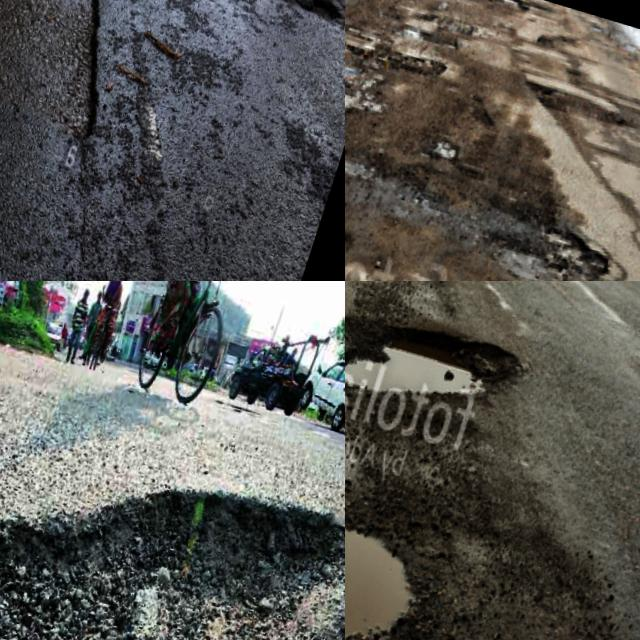Potholes: (0, 379, 345, 640), (0, 0, 210, 261), (345, 281, 556, 489), (345, 443, 484, 640), (468, 165, 630, 281), (31, 0, 266, 61), (381, 97, 486, 229), (345, 9, 395, 241), (354, 0, 576, 45), (194, 0, 345, 58), (370, 11, 463, 102)
